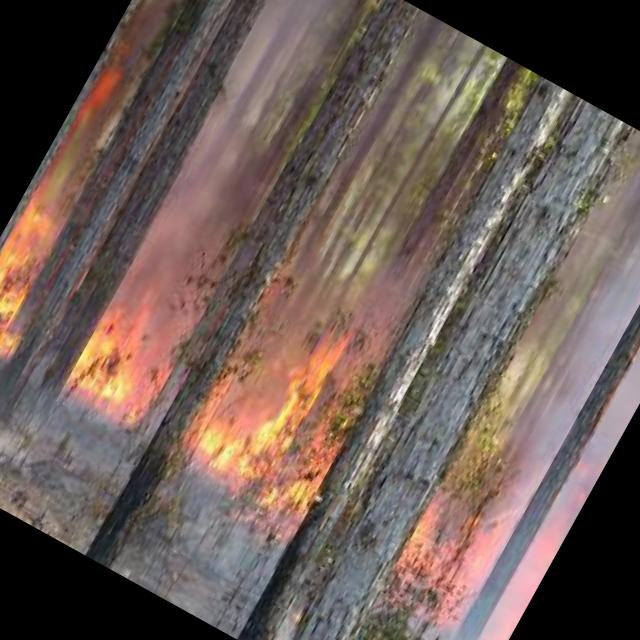fire: (198, 309, 346, 496), (438, 477, 535, 614), (67, 292, 170, 410), (480, 524, 567, 640), (0, 208, 63, 347)
